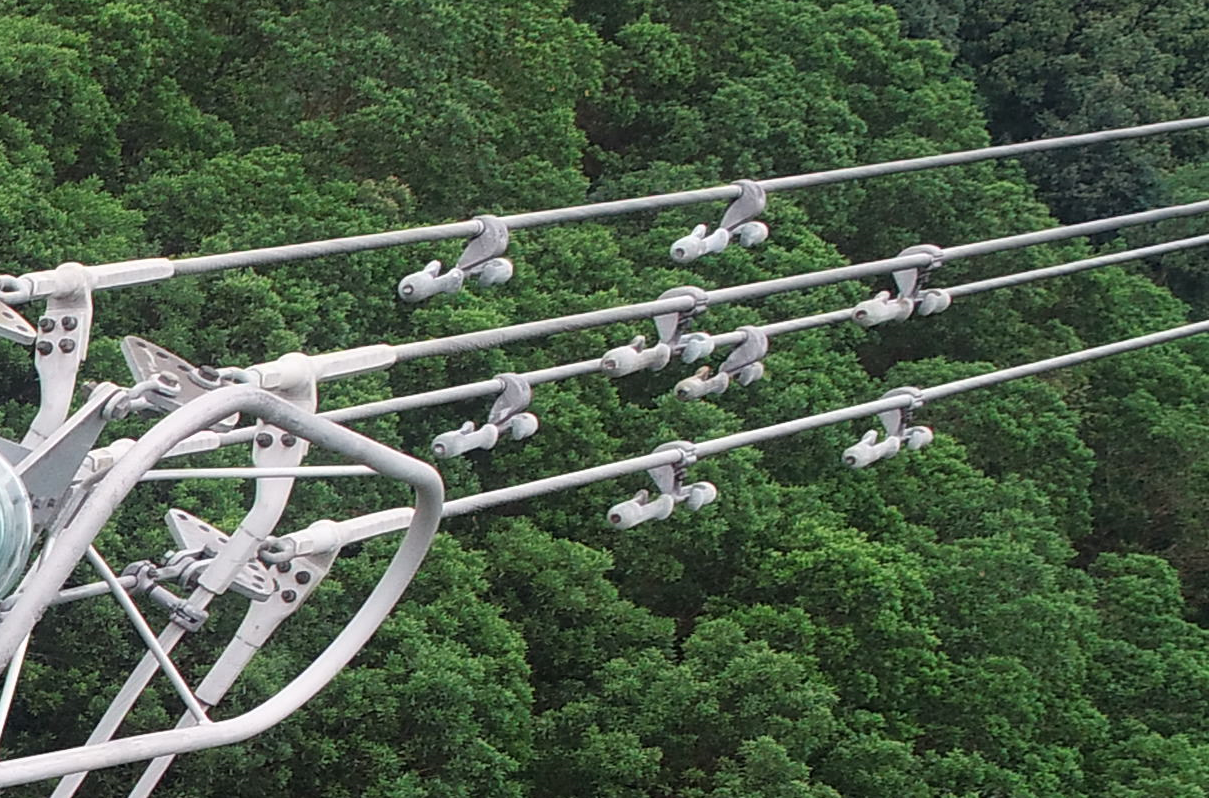damper: (393, 209, 518, 304), (604, 436, 718, 534), (598, 283, 713, 379), (430, 372, 542, 458), (667, 176, 773, 264), (849, 242, 952, 329), (842, 384, 938, 470), (676, 322, 775, 405)
